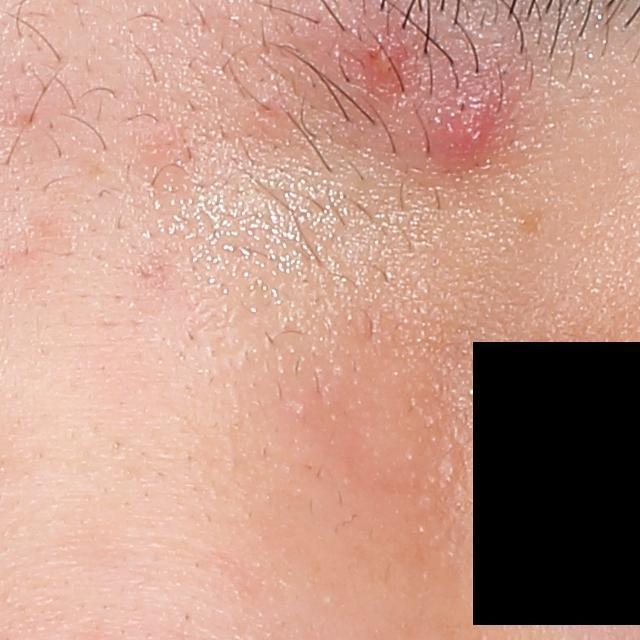papule: (430, 83, 510, 158), (353, 32, 400, 84)
